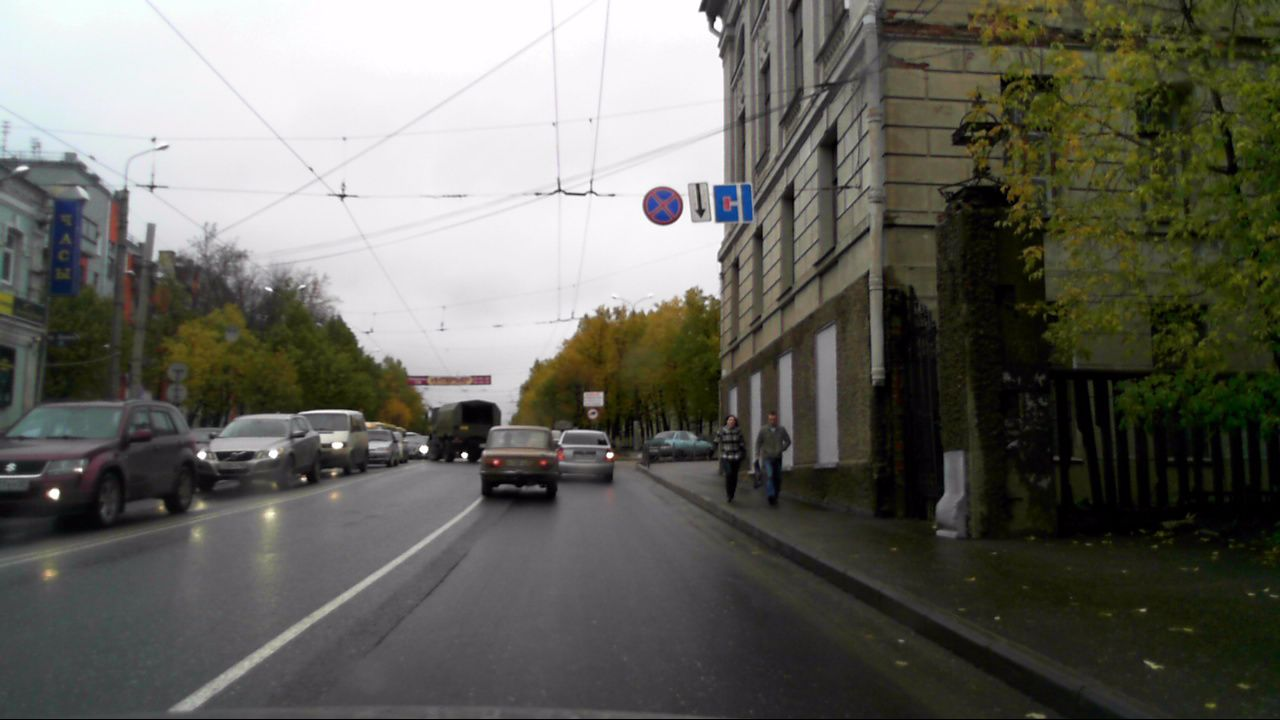No Parking: (642, 186, 683, 225)
